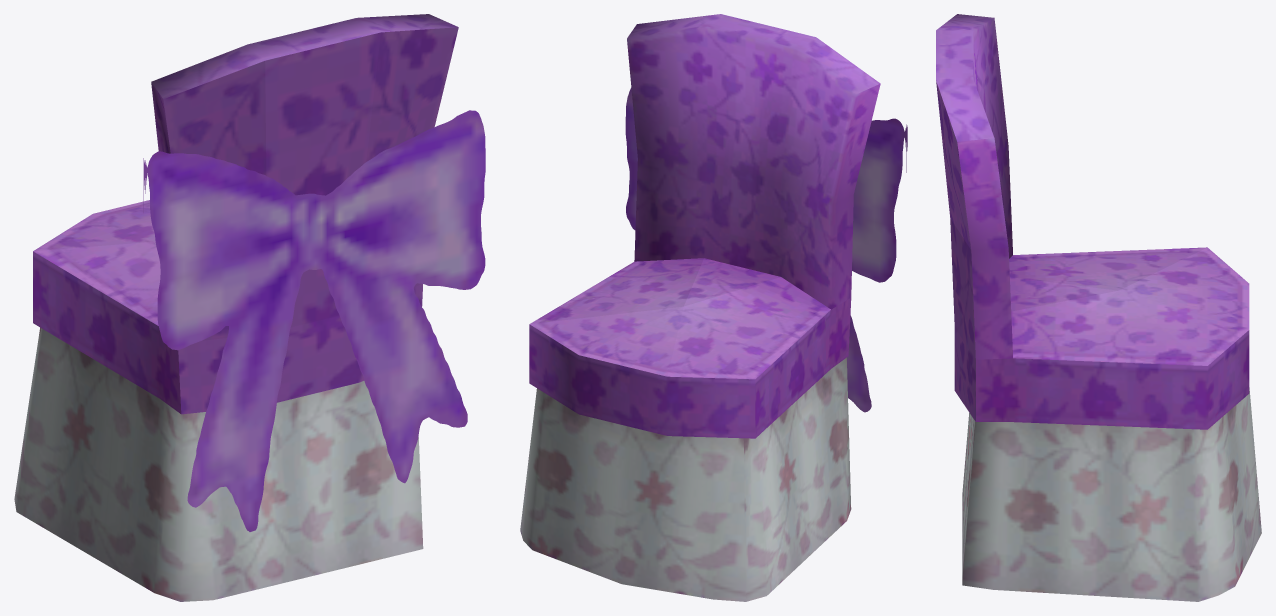
Rendered from furni_0200036_01.FBX.
The picture shows the model from 3 angles, left to right: view 1: azimuth 30°, elevation 25°; view 2: azimuth 150°, elevation 25°; view 3: azimuth 270°, elevation 25°; orthographic projection. The views are drawn at different scales.
Visible parts, largest first — view 1: furni_0200036_01; view 2: furni_0200036_01; view 3: furni_0200036_01.
Boxes of the visible parts, box(x1,y1,x2,y2) form: furni_0200036_01: box(14, 14, 485, 601); furni_0200036_01: box(520, 14, 907, 601); furni_0200036_01: box(936, 14, 1261, 601).
Size of the model in its own units: 59.1 by 88.28 by 54.28.
Materials: 1 (1 with a texture image).
